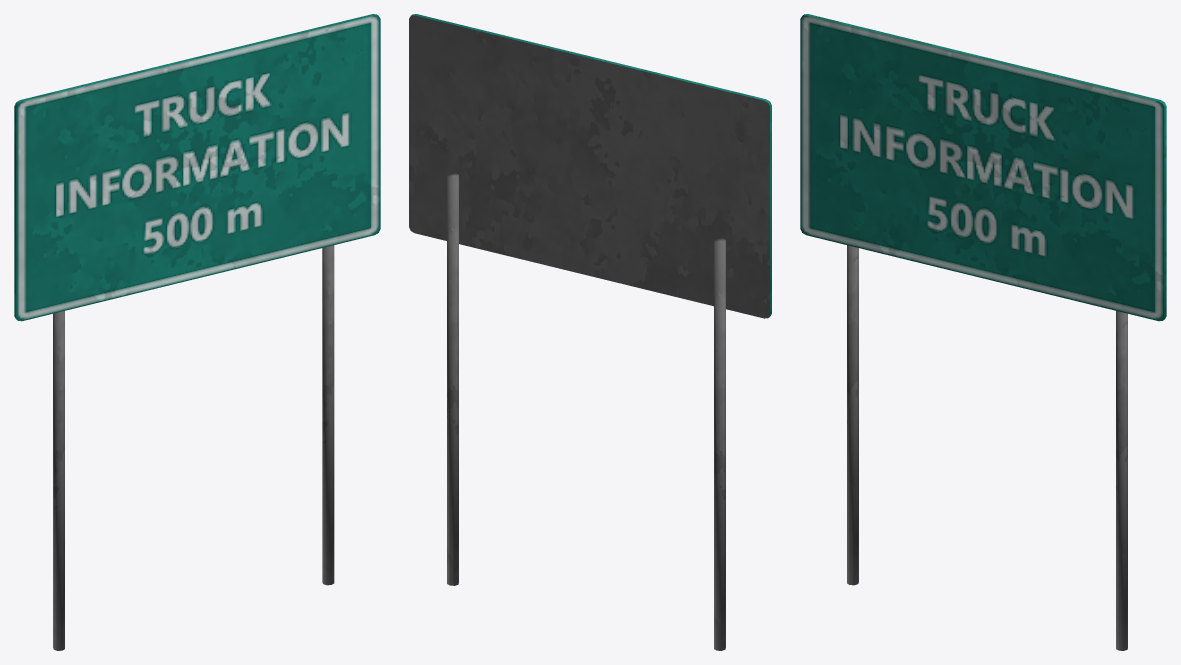
The model's file is Sign_09.glb.
The picture shows the model from 3 angles, left to right: view 1: azimuth 30°, elevation 25°; view 2: azimuth 150°, elevation 25°; view 3: azimuth 330°, elevation 25°; orthographic projection.
Parts seen in each view (by area): view 1: Sign_09.001; view 2: Sign_09.001; view 3: Sign_09.001.
Boxes of the visible parts, bbox=[...] form: Sign_09.001: bbox=[14, 14, 380, 650]; Sign_09.001: bbox=[409, 14, 771, 650]; Sign_09.001: bbox=[800, 14, 1166, 650].
Size of the model in its own units: 1.35 by 1.99 by 0.0515.
1 material, 1 textured.
